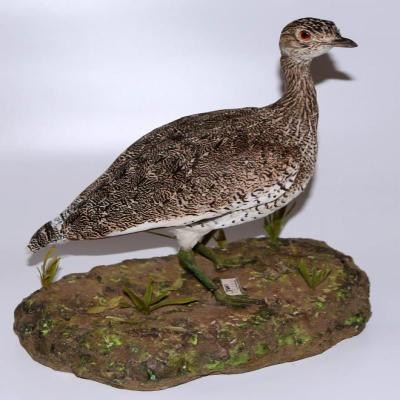natural_science_collection: (26, 18, 359, 307)
